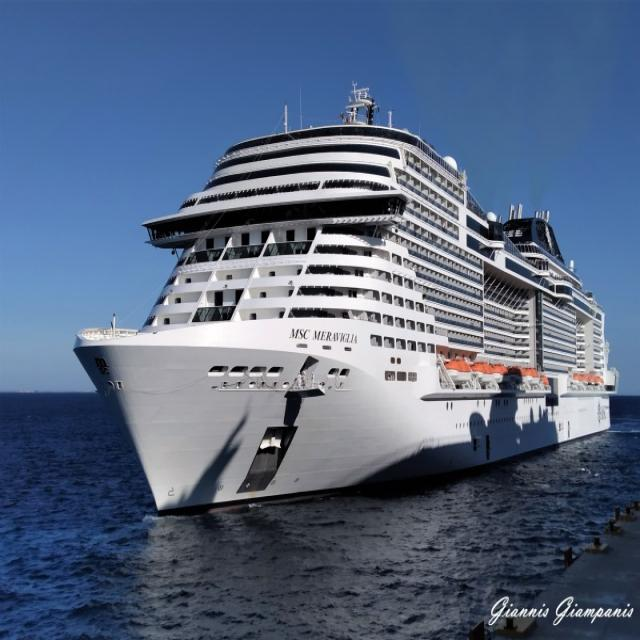cruises: (69, 80, 620, 524)
